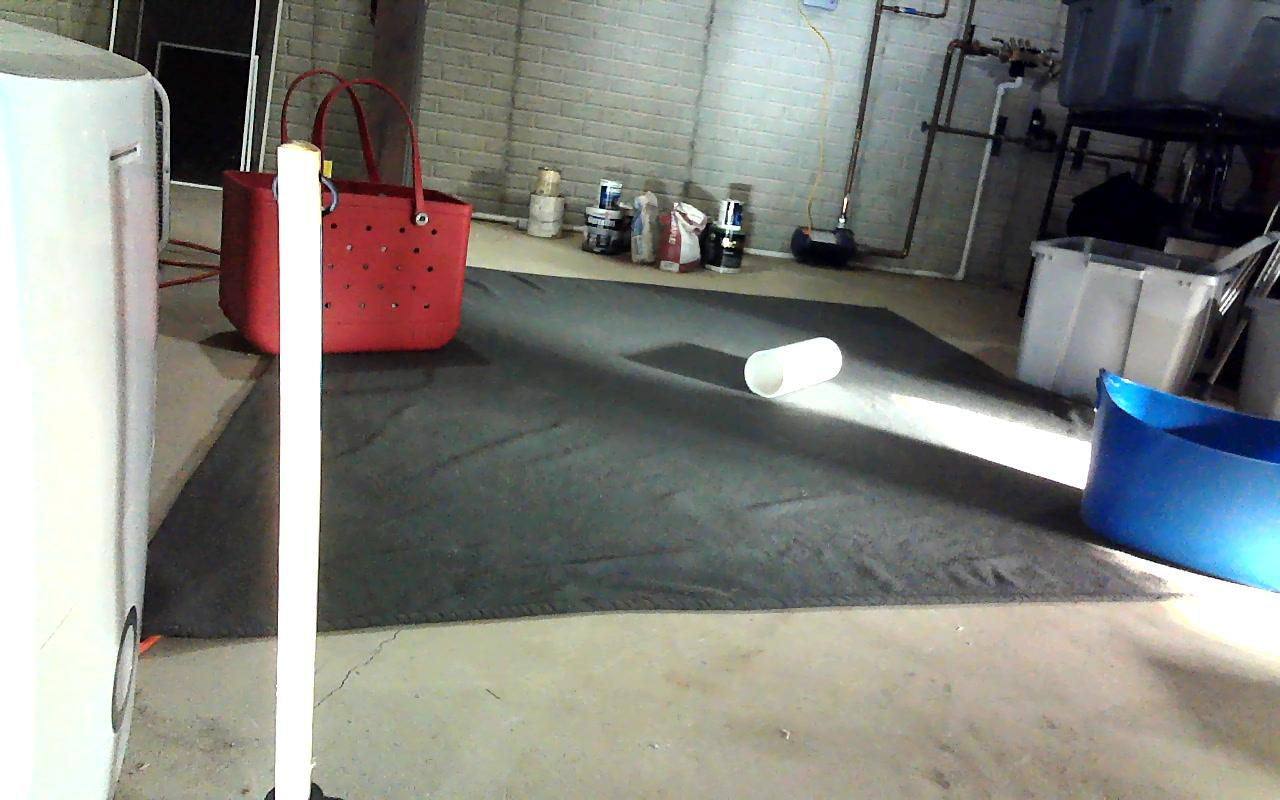coral: (744, 337, 840, 396)
